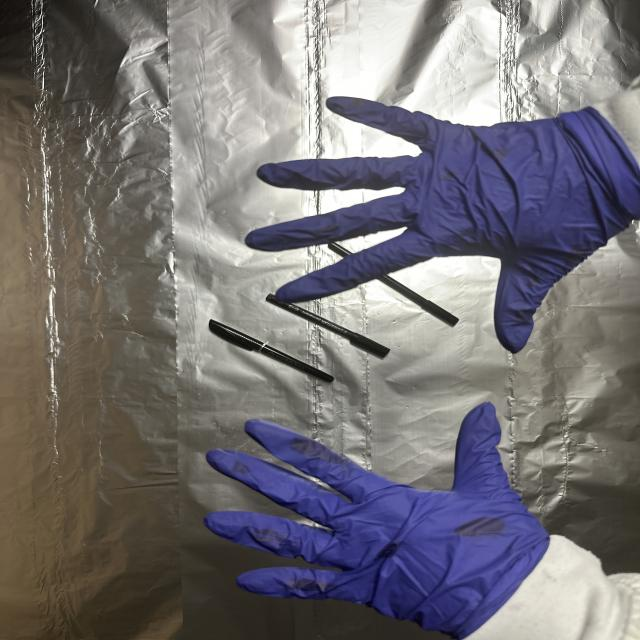gloves_contaminated: (246, 97, 640, 353), (206, 403, 550, 638)
